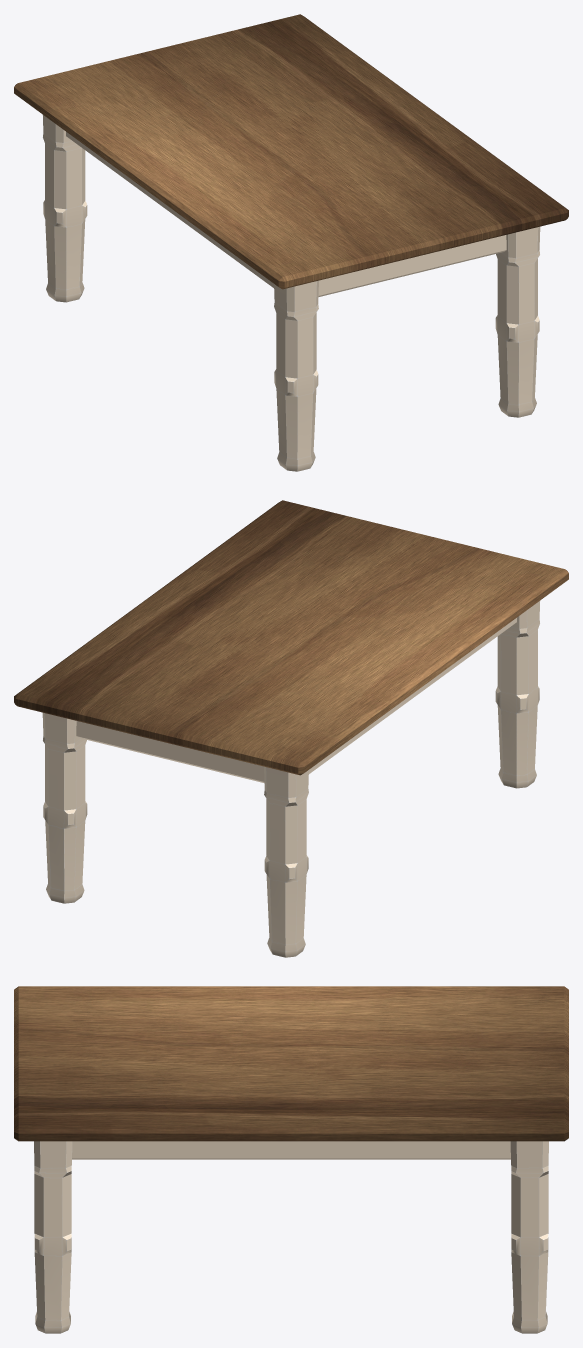
File: table.obj
3 renders of one model, top to bottom at view 1: azimuth 30°, elevation 25°; view 2: azimuth 150°, elevation 25°; view 3: azimuth 270°, elevation 25°, orthographic. The views are drawn at different scales.
Parts seen in each view (by area): view 1: pCube5; view 2: pCube5; view 3: pCube5.
Boxes of the visible parts, x1,y1,x2,y2 form: pCube5: [14, 14, 568, 471]; pCube5: [14, 500, 568, 957]; pCube5: [14, 986, 568, 1333].
Bounding box in the file's own units: 55.08 × 37.63 × 88.49.
